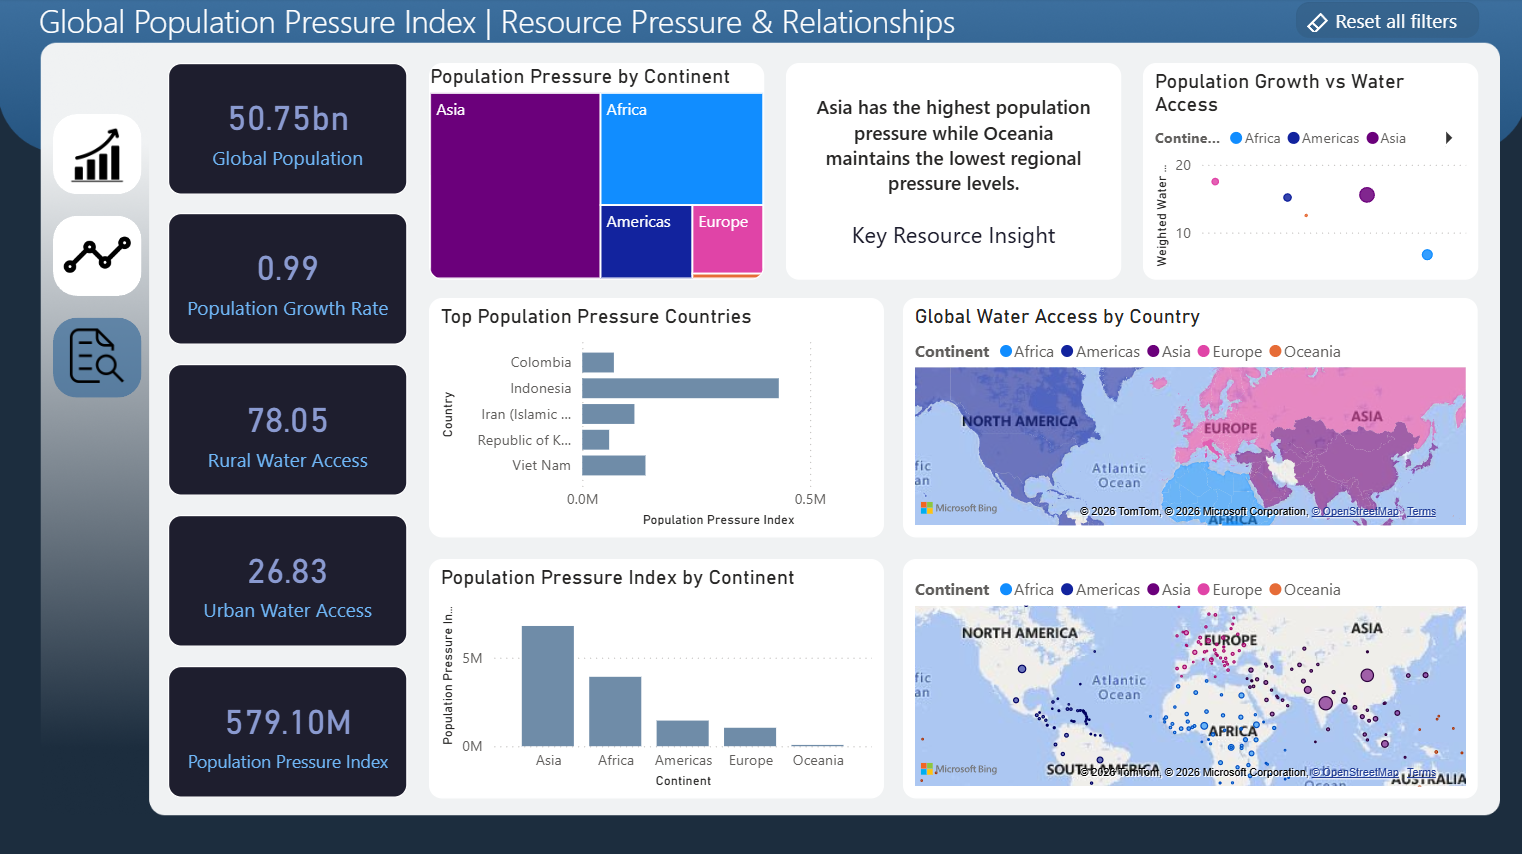

Layout of this report page (visuals, bound fields, positions):
{"tool":"powerbi","page":{"name":"Resource Pressure & Relationships","canvas":[1280,720],"ordinal":2},"visuals":[{"type":"pageNavigator","box":[47.4,96.6,74.2,239.8],"z":0},{"type":"textbox","box":[36,0,798.5,44.7],"z":1000},{"type":"image","box":[47.3,180,74.5,68.2],"z":2000},{"type":"image","box":[55.5,107.3,57.3,47.3],"z":3000},{"type":"image","box":[58.2,259.1,51.8,77.3],"z":4000},{"type":"card","fields":{"Values":["fact_water_access.Urban Water Access"]},"box":[144,429.4,200.1,110],"z":5000},{"type":"card","fields":{"Values":["fact_population_un.Pressure Index"]},"box":[144,555.5,200.1,110.4],"z":6000},{"type":"card","fields":{"Values":["fact_population_un.Total Population"]},"box":[144,51.8,200.1,109.5],"z":7000},{"type":"card","fields":{"Values":["fact_population_un.Population Growth Rate"]},"box":[144,177.4,200.1,109.5],"z":8000},{"type":"card","fields":{"Values":["fact_water_access.Rural Water Access"]},"box":[144,303,200.1,110.4],"z":9000},{"type":"clusteredBarChart","title":"Top Population Pressure Countries","fields":{"Category":["Master_Country.Country","fact_economics_imf.year"],"Y":["fact_population_un.Pressure Index"]},"box":[361.4,51.8,278.6,218.2],"z":10000},{"type":"scatterChart","title":"Population Growth vs Water Access","fields":{"X":["fact_population_un.Population Growth Rate"],"Y":["fact_water_access.Weighted Water Access"],"Size":["Sum(fact_population_un.population)"],"Series":["Countries_Territories.Continent"]},"box":[888.4,51.8,350.2,218.2],"z":11000},{"type":"scatterChart","title":"Regional Water Access Distribution","fields":{"Category":["fact_water_access.water_urban","fact_water_access.water_rural"],"Series":["Countries_Territories.Continent"]},"box":[888.4,282.9,350.2,185.4],"z":12000},{"type":"treemap","title":"Population Pressure by Country","fields":{"Values":["fact_population_un.Population Pressure Index"],"Group":["Countries_Territories.Continent"]},"box":[361.4,282.9,278.6,185.4],"z":13000},{"type":"clusteredColumnChart","fields":{"Category":["Countries_Territories.Continent"],"Y":["fact_population_un.Pressure Index"]},"box":[362.3,479.8,397.1,186.1],"z":14000},{"type":"map","title":"Global Water Access by Country","fields":{"Category":["Master_Country.Country"],"Size":["Sum(fact_population_un.population)"],"Series":["Countries_Territories.Continent"]},"box":[770.4,479.8,467.8,185.1],"z":15000},{"type":"actionButton","box":[1086.2,3.3,152.9,30.4],"z":16000},{"type":"cardVisual","box":[640,52,195,218],"z":16001},{"type":"pivotTable","fields":{"Rows":["Master_Country.Country"],"Values":["fact_population_un.Population Pressure Index"],"Columns":["fact_population_un.year"]},"box":[655.6,283,222.7,185.8],"z":16002}]}

Visuals, with their boxes in screenshot pixels (x1, y1, x2, y2), scaled from the page's 1280x720 canvas onto the 1522x854 screenshot:
pageNavigator: {"x1": 56, "y1": 115, "x2": 145, "y2": 399}
textbox: {"x1": 43, "y1": 0, "x2": 992, "y2": 53}
image: {"x1": 56, "y1": 214, "x2": 145, "y2": 294}
image: {"x1": 66, "y1": 127, "x2": 134, "y2": 183}
image: {"x1": 69, "y1": 307, "x2": 131, "y2": 399}
card - fact_water_access.Urban Water Access: {"x1": 171, "y1": 509, "x2": 409, "y2": 640}
card - fact_population_un.Pressure Index: {"x1": 171, "y1": 659, "x2": 409, "y2": 790}
card - fact_population_un.Total Population: {"x1": 171, "y1": 61, "x2": 409, "y2": 191}
card - fact_population_un.Population Growth Rate: {"x1": 171, "y1": 210, "x2": 409, "y2": 340}
card - fact_water_access.Rural Water Access: {"x1": 171, "y1": 359, "x2": 409, "y2": 490}
"Top Population Pressure Countries" clusteredBarChart: {"x1": 430, "y1": 61, "x2": 761, "y2": 320}
"Population Growth vs Water Access" scatterChart: {"x1": 1056, "y1": 61, "x2": 1473, "y2": 320}
"Regional Water Access Distribution" scatterChart: {"x1": 1056, "y1": 336, "x2": 1473, "y2": 555}
"Population Pressure by Country" treemap: {"x1": 430, "y1": 336, "x2": 761, "y2": 555}
clusteredColumnChart - Countries_Territories.Continent x fact_population_un.Pressure Index: {"x1": 431, "y1": 569, "x2": 903, "y2": 790}
"Global Water Access by Country" map: {"x1": 916, "y1": 569, "x2": 1472, "y2": 789}
actionButton: {"x1": 1292, "y1": 4, "x2": 1473, "y2": 40}
cardVisual: {"x1": 761, "y1": 62, "x2": 993, "y2": 320}
pivotTable - Master_Country.Country x fact_population_un.Population Pressure Index: {"x1": 780, "y1": 336, "x2": 1044, "y2": 556}
